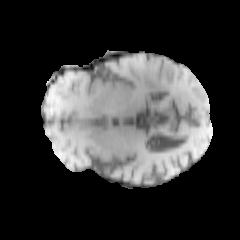glioma: (119, 62, 173, 97)
